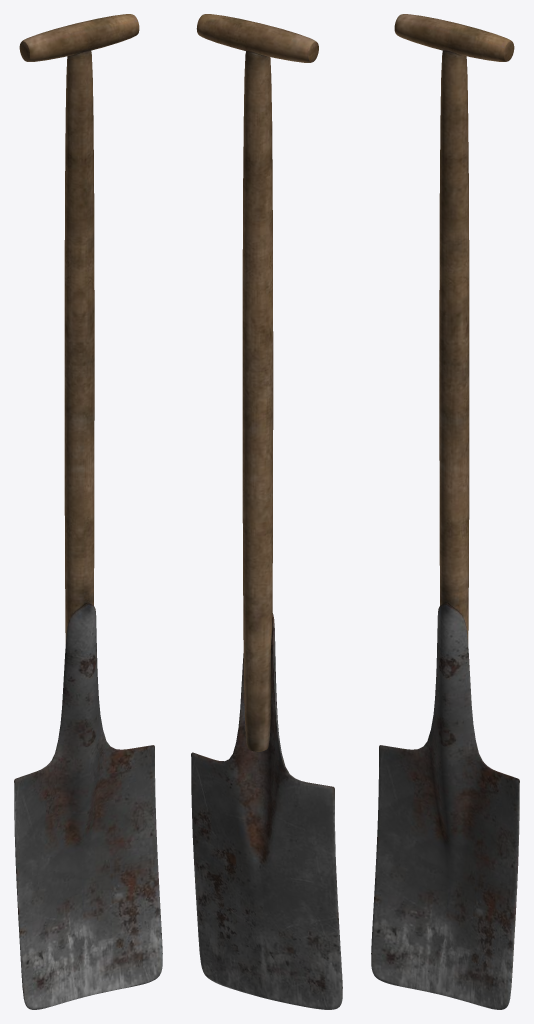
File: spade-rusted.fe18fc72.glb
3 views of the same model, side by side, from view 1: azimuth 30°, elevation 25°; view 2: azimuth 150°, elevation 25°; view 3: azimuth 330°, elevation 25° (orthographic). The views are drawn at different scales.
Parts seen in each view (by area): view 1: model; view 2: model; view 3: model.
Boxes of the visible parts, left/top/right/bottom form: model: left=14, top=14, right=162, bottom=1009; model: left=191, top=14, right=342, bottom=1009; model: left=371, top=14, right=519, bottom=1009.
Size of the model in its own units: 0.1681 by 1.1 by 0.0455.
Materials: 1 (1 with a texture image).
